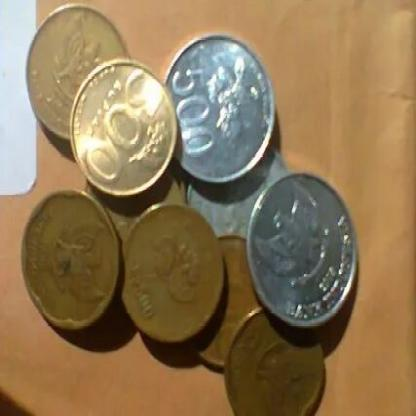coin_500_e2003: (245, 169, 368, 333), (159, 31, 276, 182)
